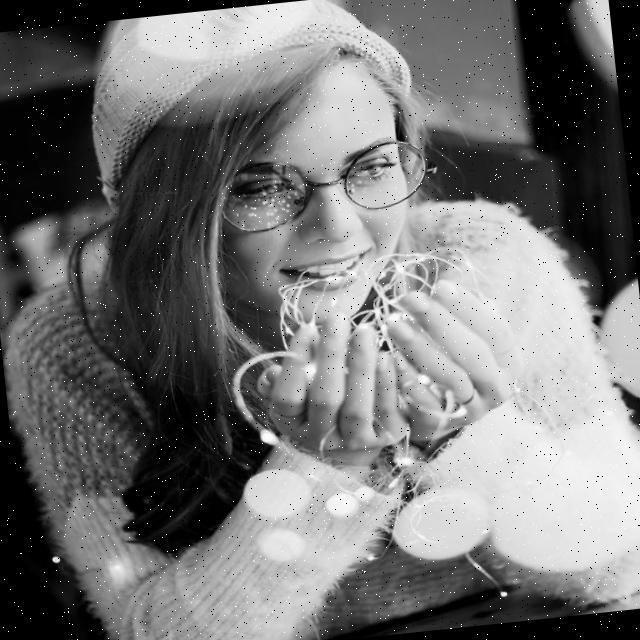Happiness: (200, 41, 428, 342)
